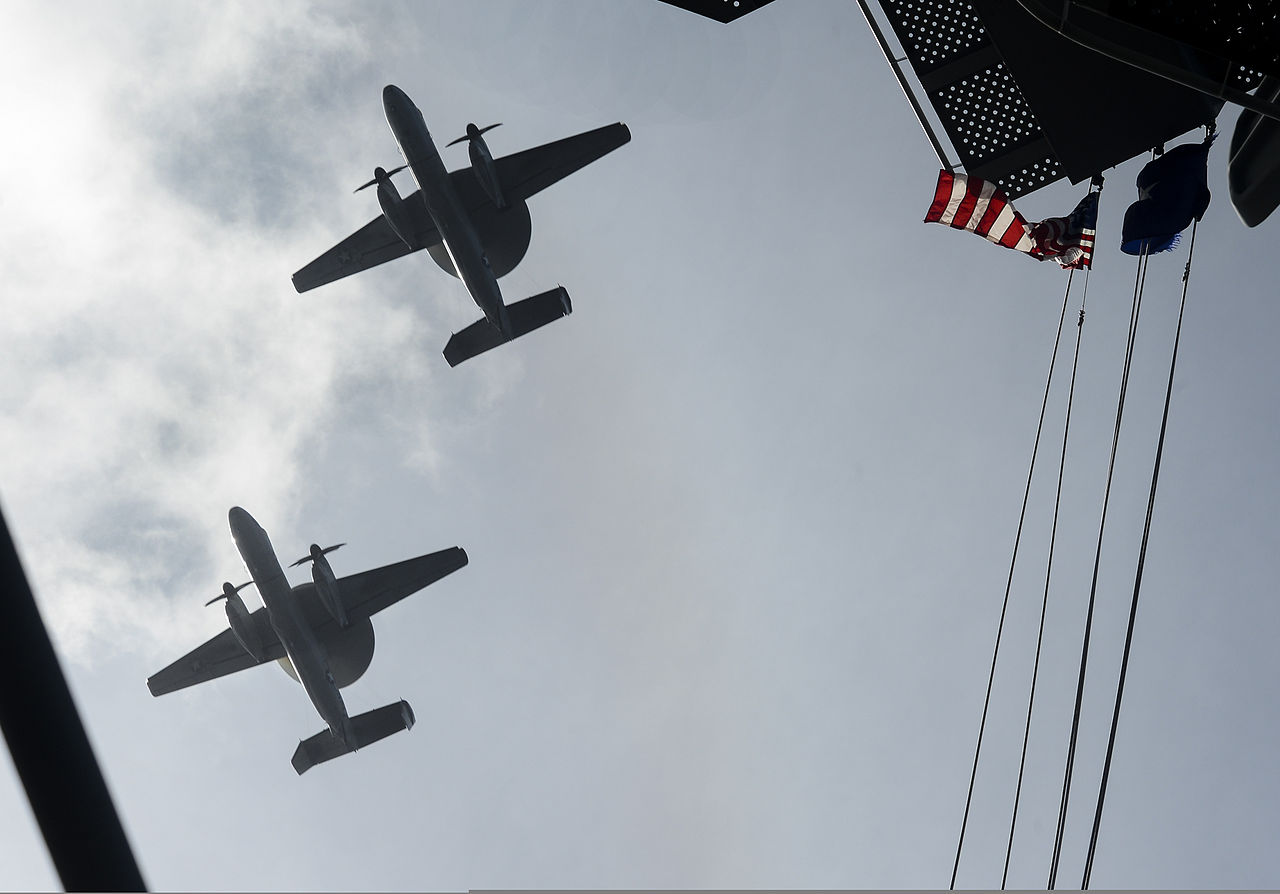E2: (291, 84, 631, 368), (145, 506, 469, 776)
